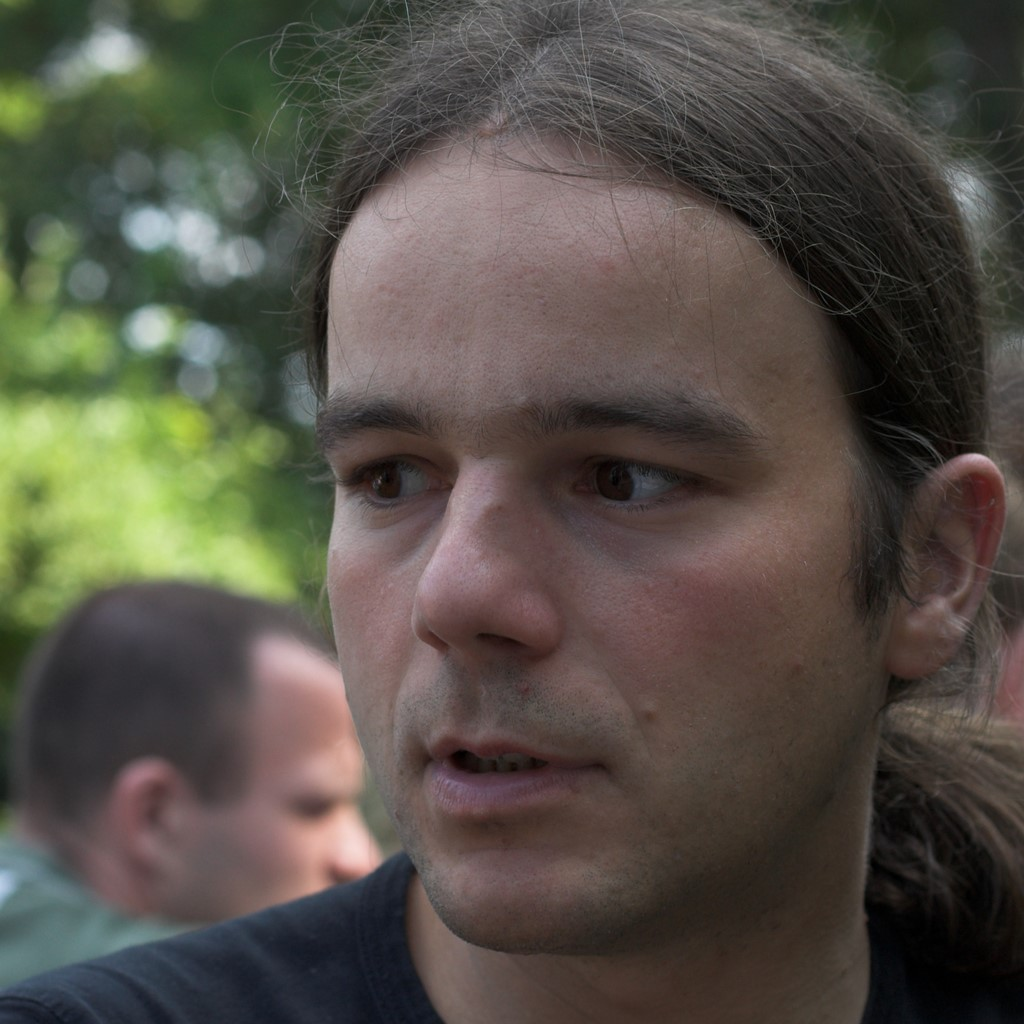sin_mascara: (328, 131, 908, 944)
